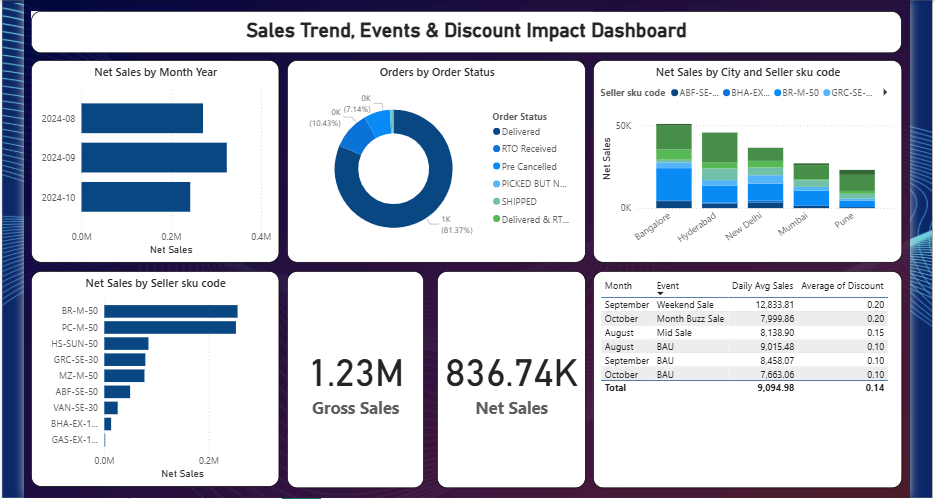

The page's visual inventory and layout, read from the dashboard file:
{"tool":"powerbi","page":{"name":"Page 1","canvas":[1280,720],"ordinal":0},"visuals":[{"type":"barChart","fields":{"Category":["Date.Month Year"],"Y":["Data.Net Sales"]},"box":[10.1,86.7,358.6,293.5],"z":0},{"type":"barChart","fields":{"Category":["Data.Seller sku code"],"Y":["Data.Net Sales"]},"box":[10.1,391.8,358.6,312.3],"z":1000},{"type":"donutChart","fields":{"Category":["Data.Order Status"],"Y":["Data.Orders"]},"box":[380.2,86.7,432.3,293.5],"z":2000},{"type":"card","fields":{"Values":["Data.Gross Sales"]},"box":[380.2,391.8,198.1,313.7],"z":3000},{"type":"card","fields":{"Values":["Data.Net Sales"]},"box":[597.1,391.8,215.4,313.7],"z":4000},{"type":"columnChart","fields":{"Category":["Data.City"],"Series":["Data.Seller sku code"],"Y":["Data.Net Sales"]},"box":[822.7,86.7,446.7,293.5],"z":5000},{"type":"tableEx","fields":{"Values":["Date.Date.Variation.Date Hierarchy.Month","Data.Event ","Data.Daily Avg Sales","Avg(Data.Discount)"]},"box":[822.7,391.8,446.7,313.7],"z":6000},{"type":"textbox","box":[10.3,16.2,812.6,50],"z":7000},{"type":"textbox","box":[10.1,15.9,1259.3,60.7],"z":8000}]}

Visuals, with their boxes in screenshot pixels (x1, y1, x2, y2):
barChart - Date.Month Year x Data.Net Sales: (31,59,276,260)
barChart - Data.Seller sku code x Data.Net Sales: (31,268,276,481)
donutChart - Data.Order Status x Data.Orders: (284,59,580,260)
card - Data.Gross Sales: (284,268,420,482)
card - Data.Net Sales: (433,268,580,482)
columnChart - Data.City x Data.Seller sku code: (587,59,892,260)
tableEx - Date.Date.Variation.Date Hierarchy.Month x Data.Event : (587,268,892,482)
textbox: (31,11,587,45)
textbox: (31,11,892,52)
